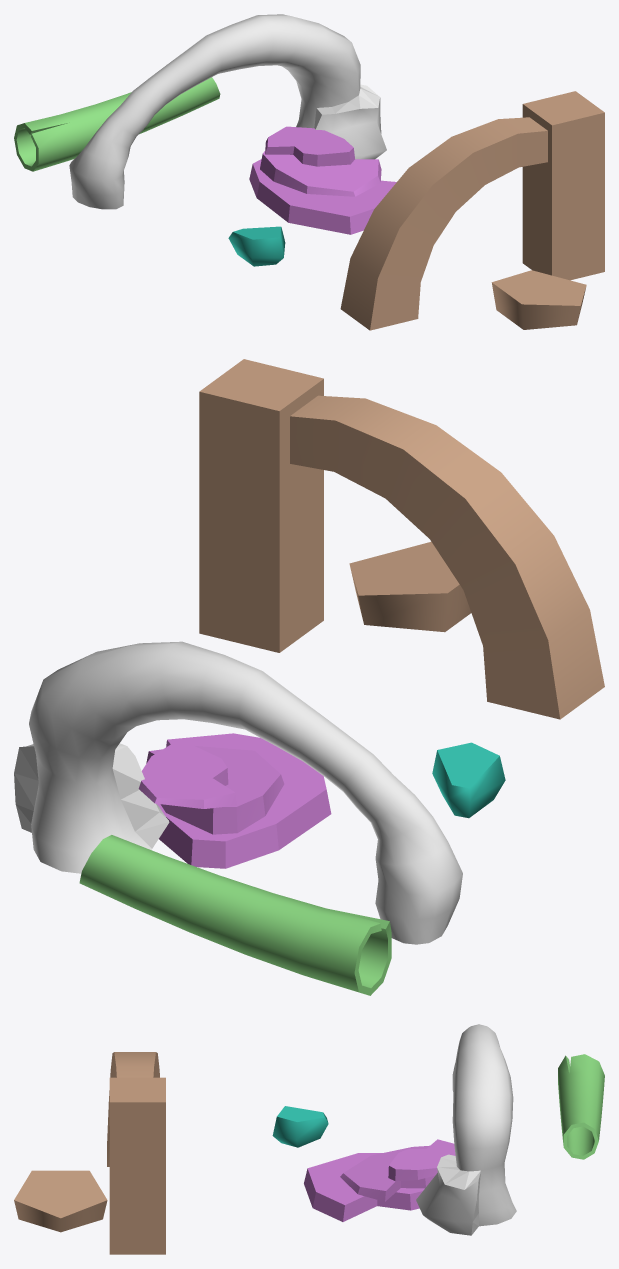
The model's file is envo_ast.FBX.
3 views of the same model, one above another, from view 1: azimuth 30°, elevation 25°; view 2: azimuth 150°, elevation 25°; view 3: azimuth 270°, elevation 25° (orthographic). The views are drawn at different scales.
Parts seen in each view (by area): view 1: Cylinder001, Line002, Line003, Tube001, Cylinder002; view 2: Cylinder001, Line002, Tube001, Line003, Cylinder002; view 3: Cylinder001, Line002, Line003, Tube001, Cylinder002.
Boxes of the visible parts, x1,y1,x2,y2 form: Cylinder001: (340, 91, 604, 330); Line002: (69, 14, 386, 209); Line003: (249, 126, 396, 234); Tube001: (14, 77, 220, 171); Cylinder002: (228, 226, 285, 266); Cylinder001: (199, 359, 604, 719); Line002: (14, 641, 462, 944); Tube001: (79, 835, 391, 995); Line003: (138, 733, 331, 868); Cylinder002: (432, 742, 505, 818); Cylinder001: (14, 1052, 165, 1254); Line002: (416, 1024, 516, 1235); Line003: (304, 1139, 455, 1221); Tube001: (558, 1054, 604, 1159); Cylinder002: (272, 1106, 328, 1147).
Bounding box in the file's own units: 81.48 × 37.32 × 130.
